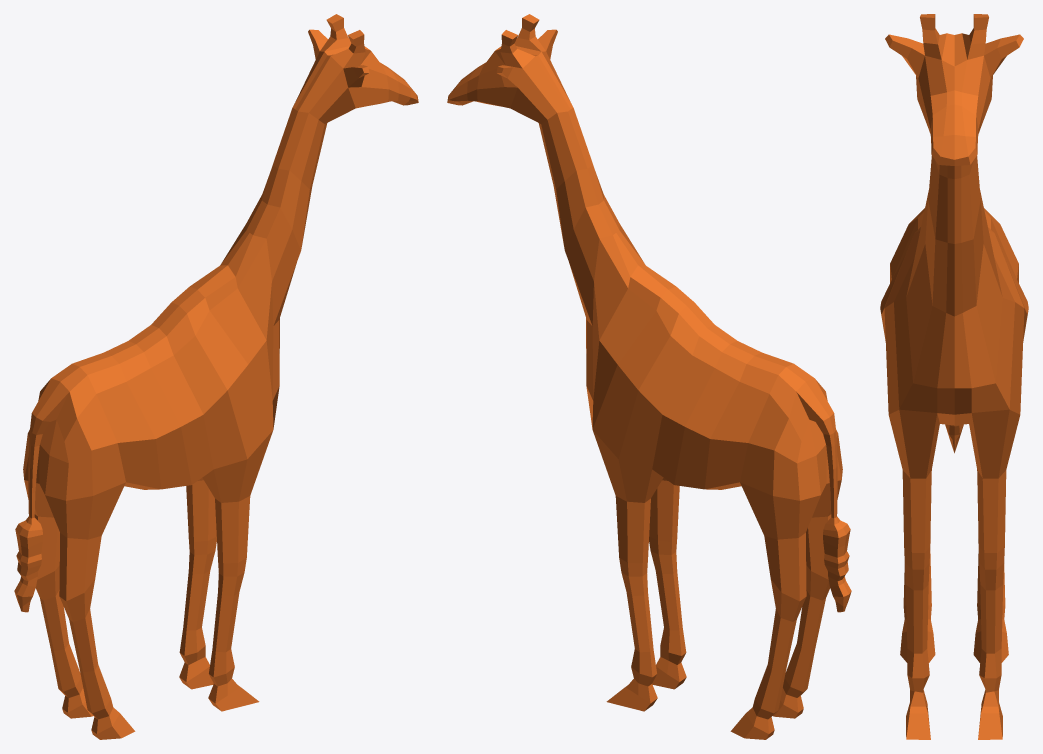
Rendered from giraffe.glb.
3 views of the same model, side by side, from view 1: azimuth 30°, elevation 25°; view 2: azimuth 150°, elevation 25°; view 3: azimuth 270°, elevation 25° (orthographic). The views are drawn at different scales.
Visible parts, largest first — view 1: Plane_Material_0; view 2: Plane_Material_0; view 3: Plane_Material_0.
Part boxes in pixels (bbox=[...]): Plane_Material_0: bbox=[14, 14, 418, 739]; Plane_Material_0: bbox=[447, 14, 851, 739]; Plane_Material_0: bbox=[880, 14, 1028, 739].
Size of the model in its own units: 194 by 297 by 50.76.
